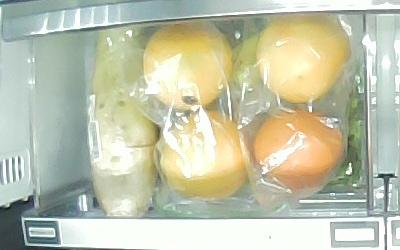grapefruit_vinyl: (256, 15, 350, 102), (161, 111, 254, 197), (143, 22, 233, 110), (253, 109, 342, 192)
